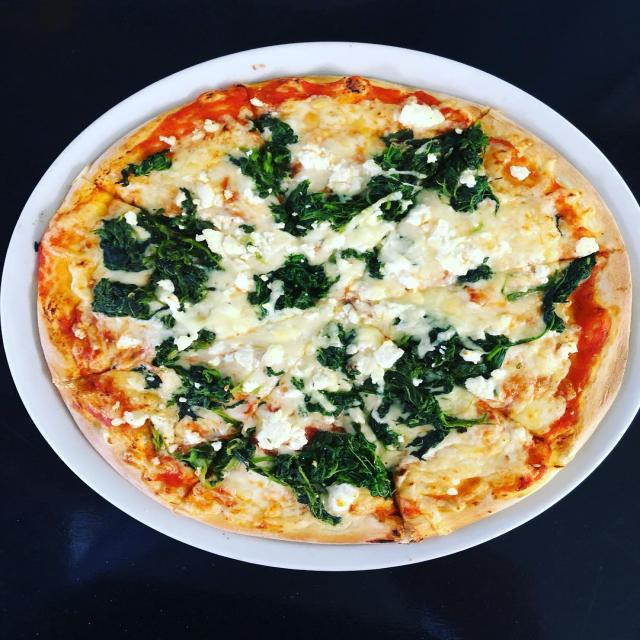pizza: (35, 76, 632, 546)
